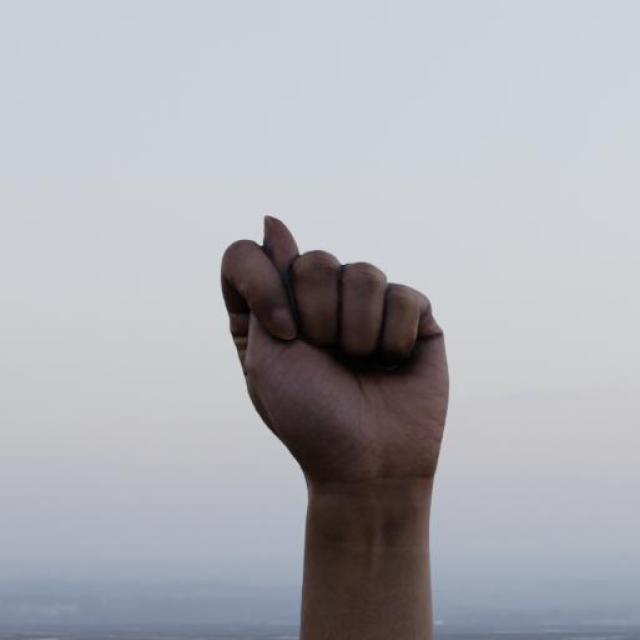T: (214, 209, 457, 487)
